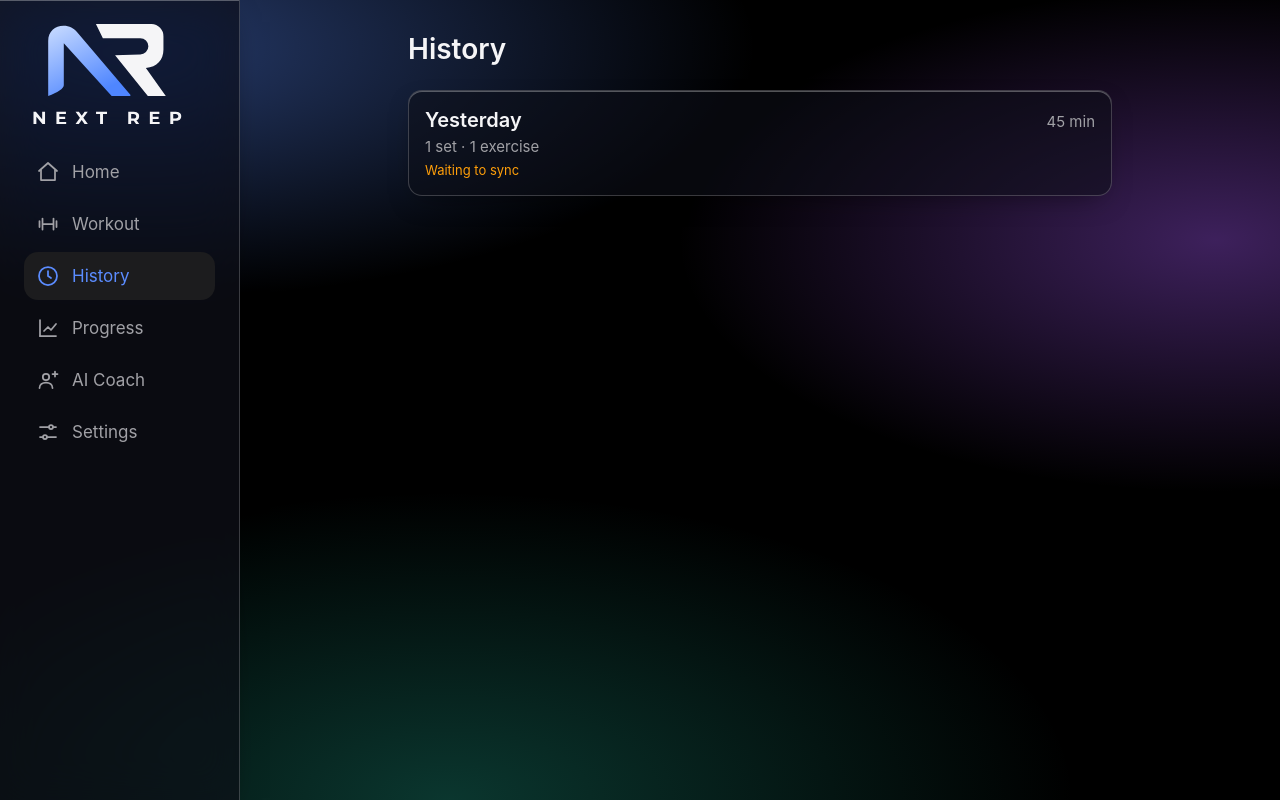
a past workout › names an exercise that cannot be found as a custom exercise
Click the link "Yesterday 45 min 1 set · 1 exercise Waiting to sync" at (473, 120), box [408,90,1112,196]
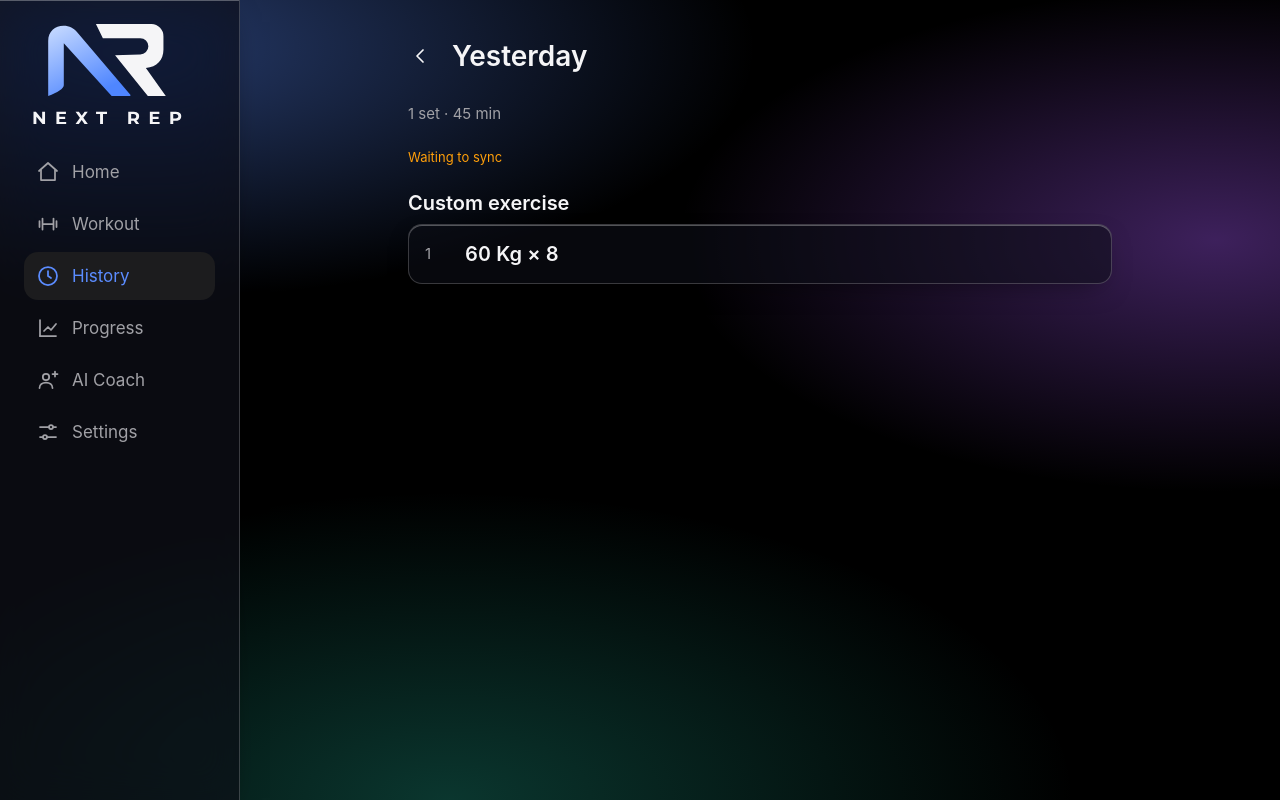
Expected: the element "Custom exercise" is shown, [408,190,1112,284]
